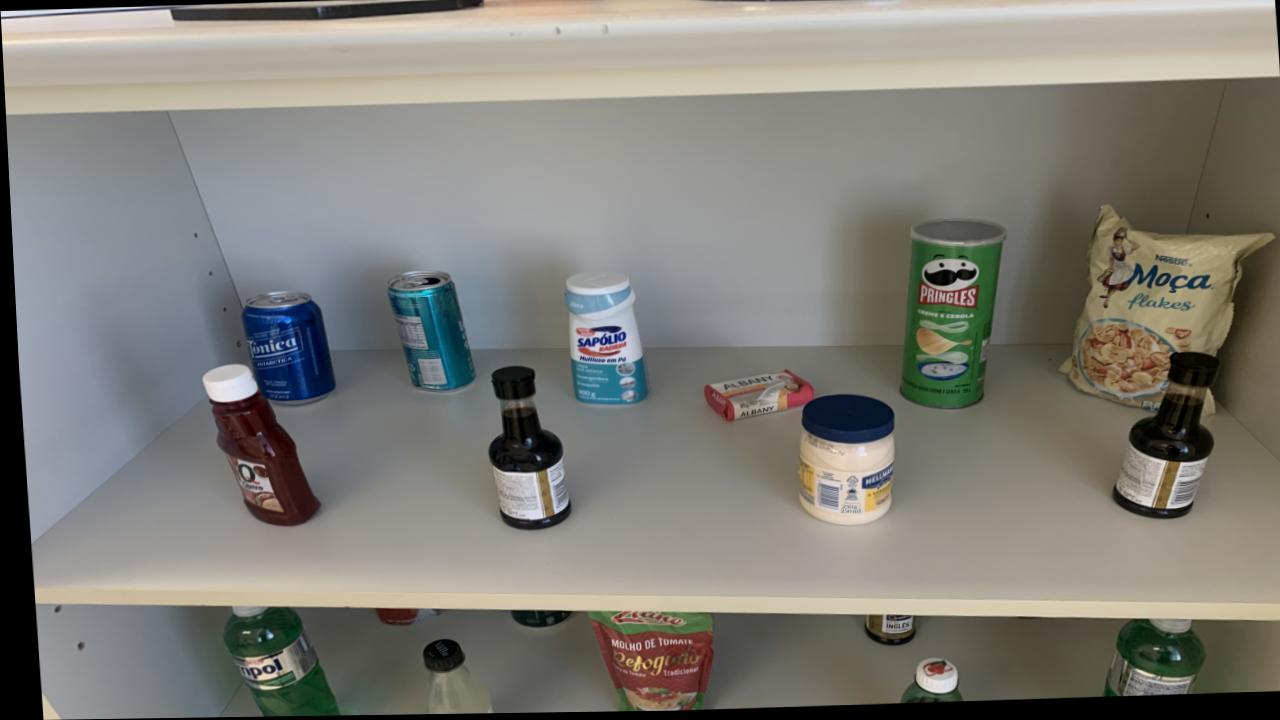Cleaner-Cleanup_Items: (561, 273, 645, 407)
Detergent-Cleanup_Items: (216, 606, 333, 717), (1095, 622, 1198, 700)
English_Sauce-Pantry_Items: (1108, 356, 1216, 522), (483, 368, 566, 531), (858, 616, 909, 648)
Flakes-Snacks: (1056, 208, 1271, 413)
Guarana-Drinks: (893, 660, 955, 706)
Guarana_Can-Drinks: (505, 611, 565, 629)
Ketchup-Pantry_Items: (198, 365, 313, 527)
Mayonnaise-Pantry_Items: (793, 396, 891, 528)
Pringles-Snacks: (896, 222, 1003, 412)
Soap-Cleanup_Items: (699, 373, 810, 422)
Soda-Drinks: (415, 640, 486, 715)
Tea-Drinks: (384, 271, 471, 393)
Tomato_Sauce-Pantry_Items: (580, 612, 707, 713), (369, 608, 432, 627)
Tonic-Drinks: (237, 292, 331, 407)
